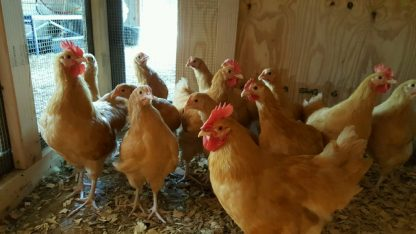buff: (201, 109, 340, 229), (37, 44, 107, 185), (125, 81, 176, 212), (242, 82, 274, 108), (367, 67, 394, 94), (179, 53, 206, 78), (219, 63, 243, 86), (256, 66, 281, 83), (132, 49, 153, 68), (404, 79, 416, 103)
